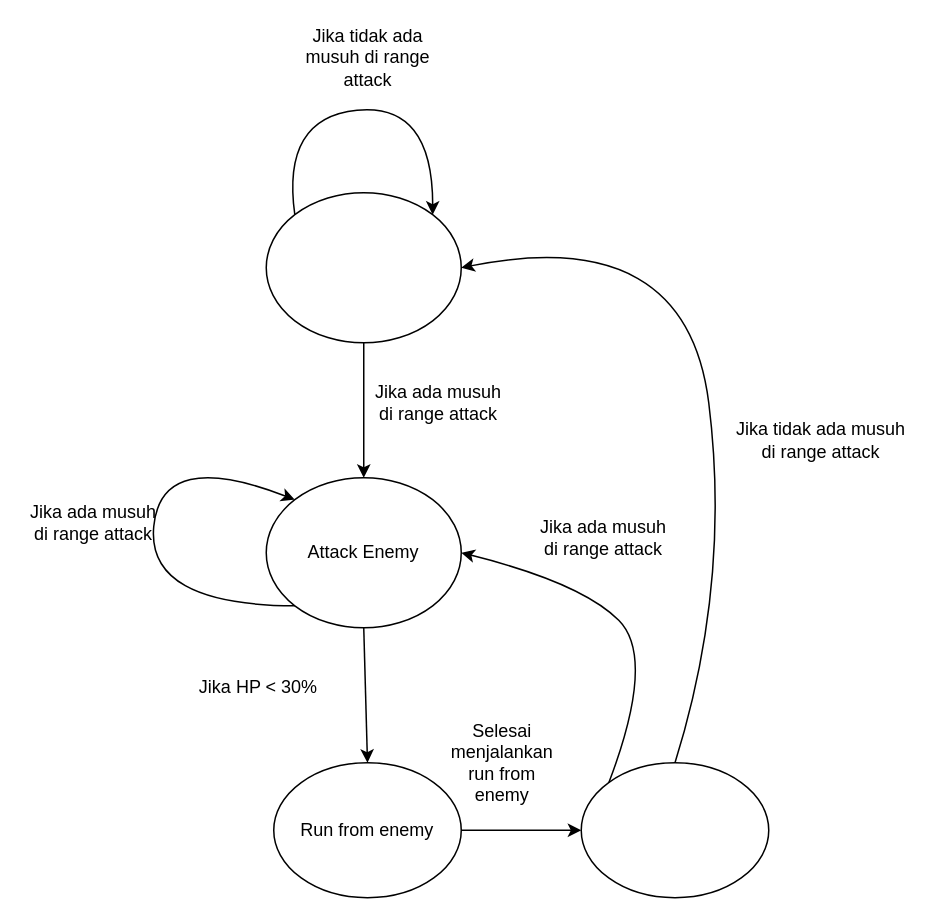
This 936x924 diagram has some shape labels left out. Each missing label, with the centre of its shape:
"Heal" belongs at pixel 674 829.
"Move to nearest enemy" belongs at pixel 363 267.
